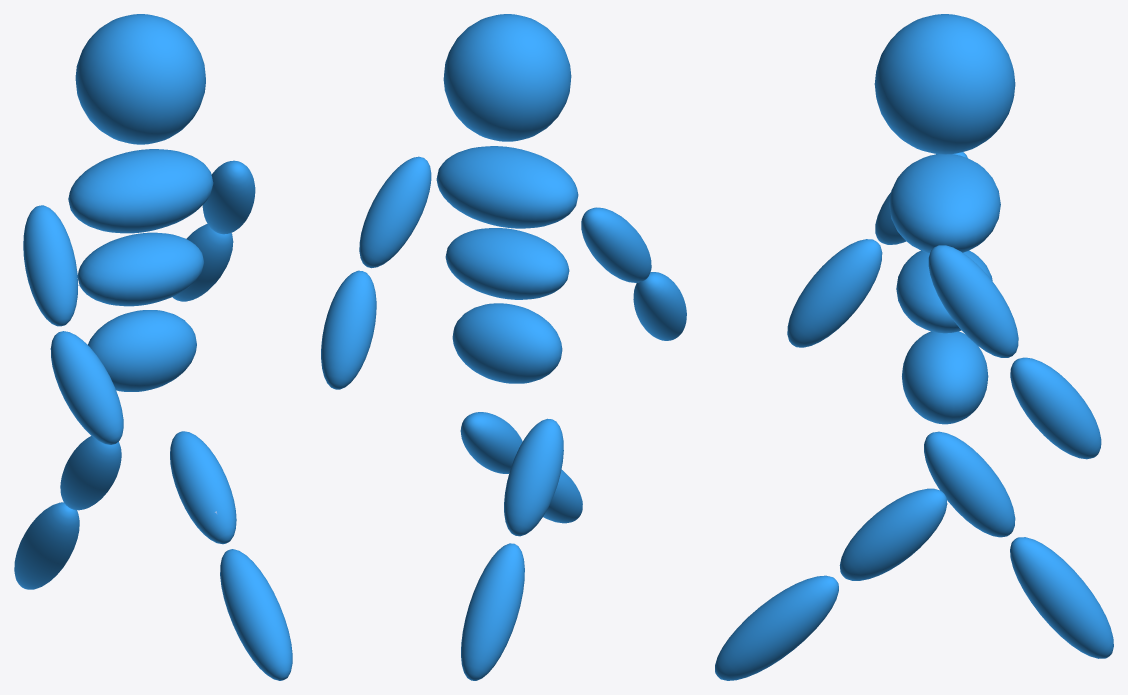
Rendered from player2.obj.
3 views of the same model, side by side, from view 1: azimuth 30°, elevation 25°; view 2: azimuth 150°, elevation 25°; view 3: azimuth 270°, elevation 25° (orthographic). The views are drawn at different scales.
Parts seen in each view (by area): view 1: Sphere.002_Sphere.006; view 2: Sphere.002_Sphere.006; view 3: Sphere.002_Sphere.006.
Part boxes in pixels (x1,y1,x2,y2): Sphere.002_Sphere.006: (14,14,292,680); Sphere.002_Sphere.006: (321,14,686,680); Sphere.002_Sphere.006: (715,14,1113,680).
Bounding box in the file's own units: 2.38 × 5.32 × 2.92.
Materials: 1 (1 with a texture image).
